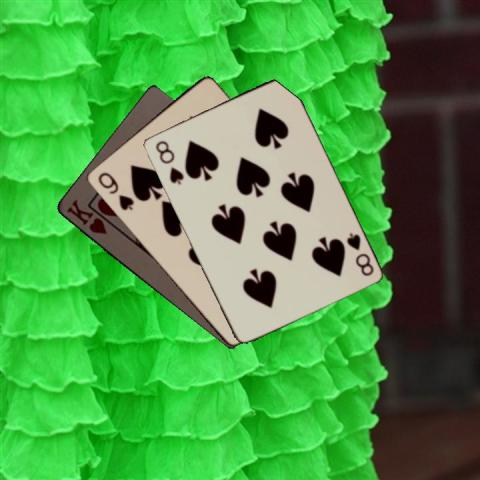8s: (152, 137, 185, 186), (342, 229, 374, 278)
9s: (94, 169, 135, 212)
Kh: (63, 196, 108, 236)
